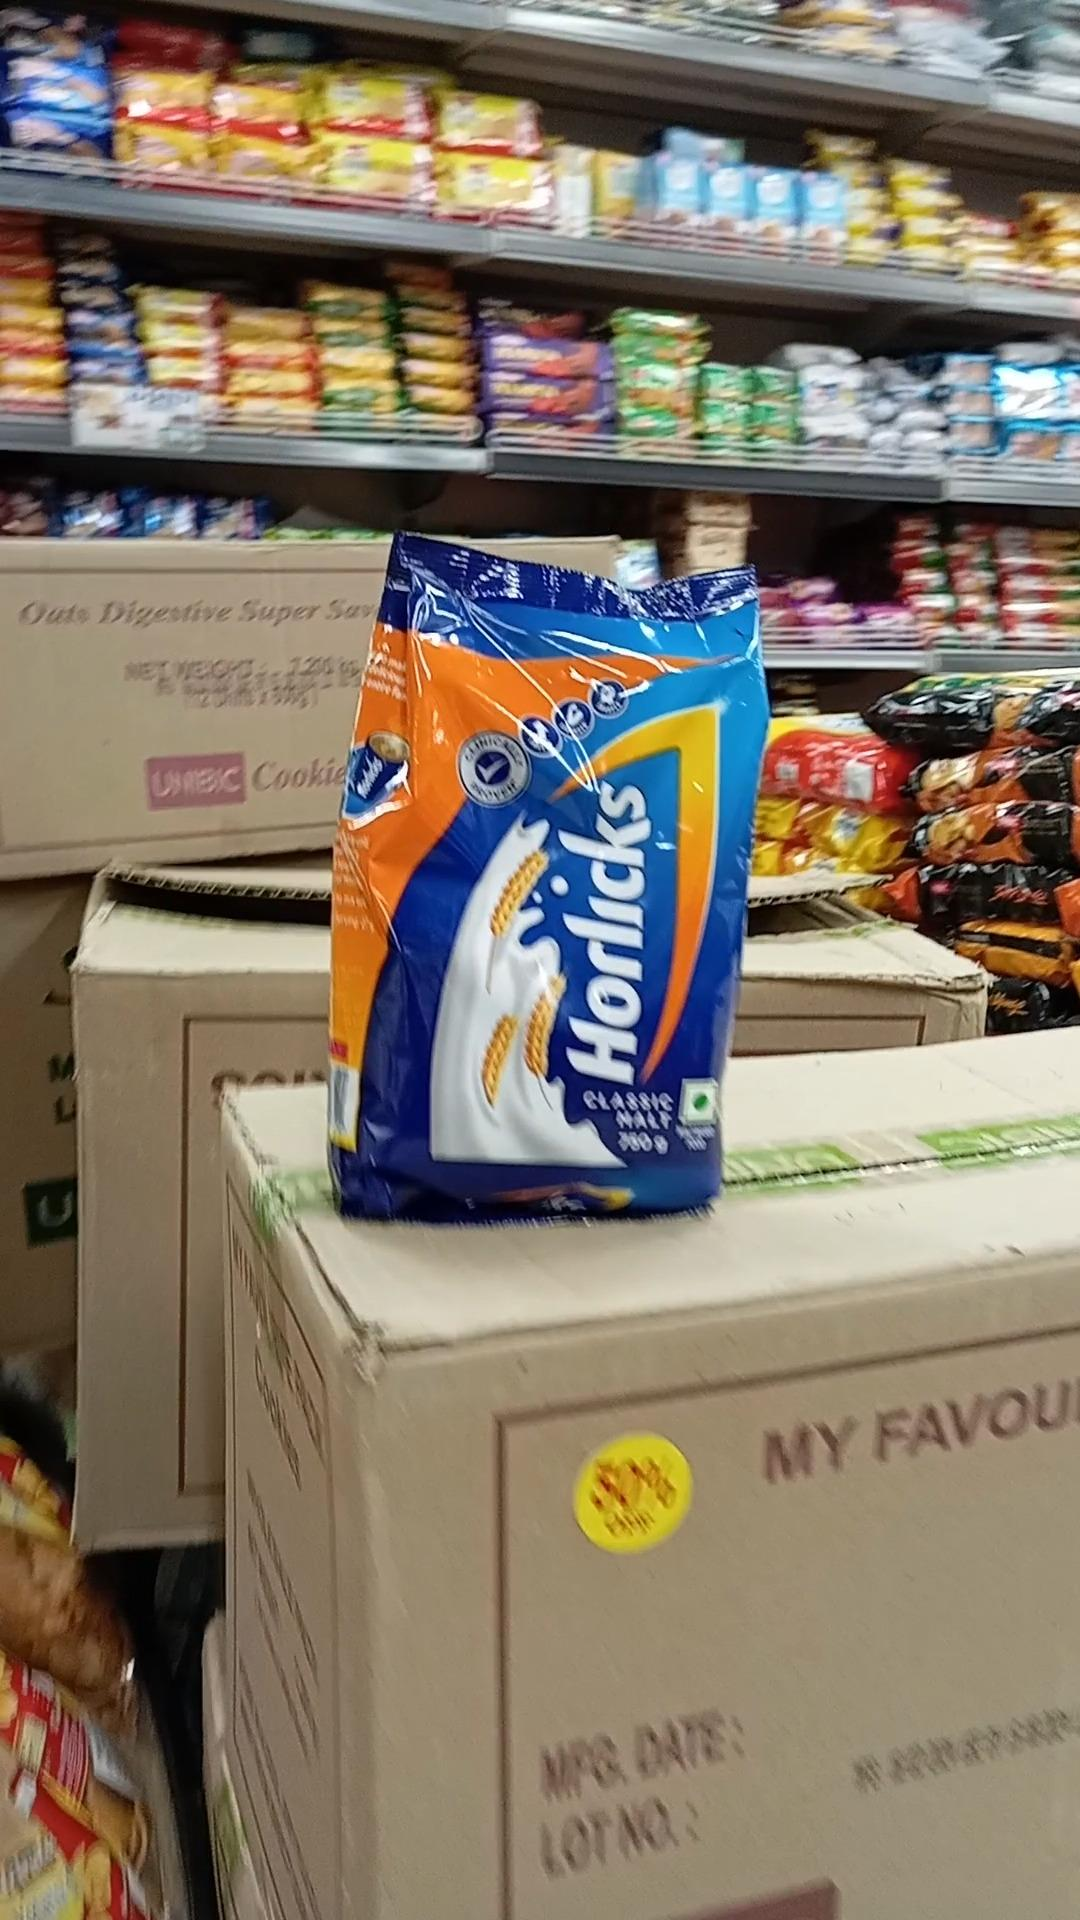HORLICK_CLASSIC_MALT_750_G_POUCH: (368, 533, 737, 1221)
